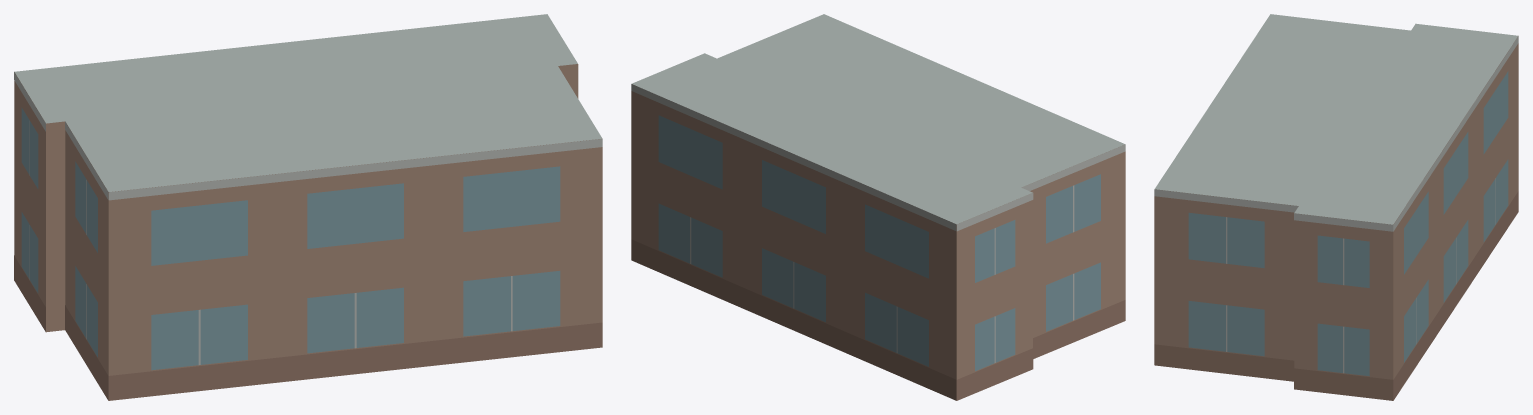
The model's file is survey-upis-32801180.glb.
The picture shows the model from 3 angles, left to right: view 1: azimuth 30°, elevation 25°; view 2: azimuth 150°, elevation 25°; view 3: azimuth 270°, elevation 25°; orthographic projection. The views are drawn at different scales.
Visible parts, largest first — view 1: survey-upis-32801180.tmp; view 2: survey-upis-32801180.tmp; view 3: survey-upis-32801180.tmp.
Boxes of the visible parts, bbox=[...] form: survey-upis-32801180.tmp: bbox=[14, 14, 602, 400]; survey-upis-32801180.tmp: bbox=[631, 14, 1125, 400]; survey-upis-32801180.tmp: bbox=[1154, 14, 1518, 400].
Bounding box in the file's own units: 15.66 × 6.1 × 11.44.
